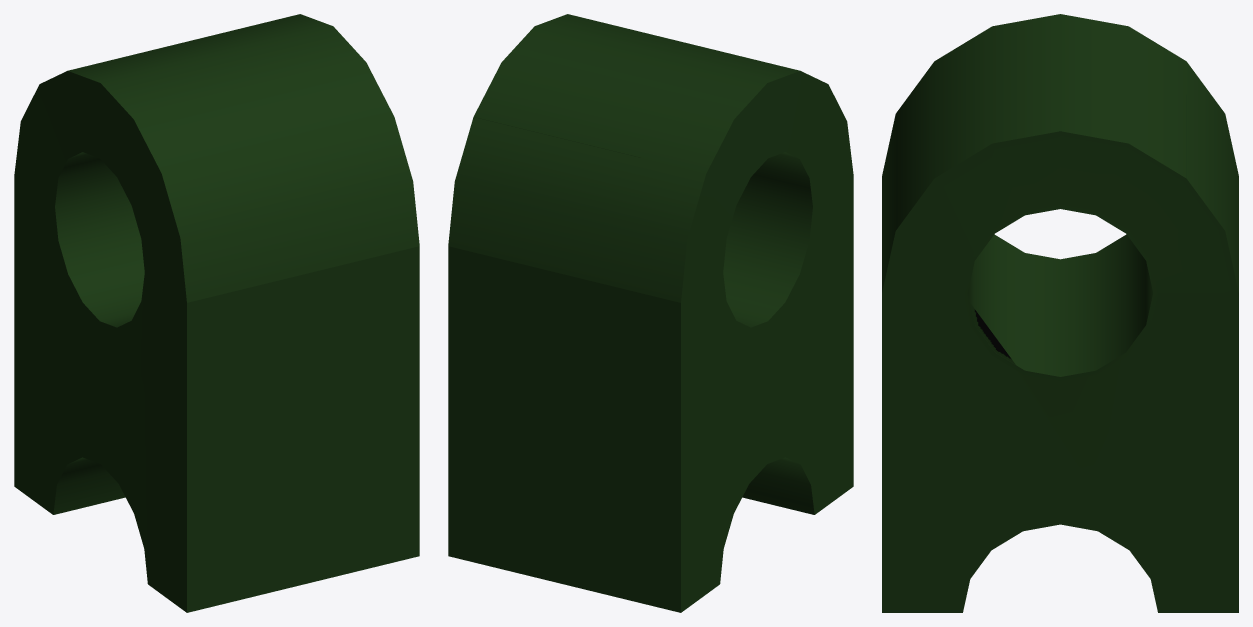
Rendered from ПТ-БлокДатчиков_П.fbx.
3 views of the same model, side by side, from view 1: azimuth 30°, elevation 25°; view 2: azimuth 150°, elevation 25°; view 3: azimuth 270°, elevation 25° (orthographic). The views are drawn at different scales.
Parts seen in each view (by area): view 1: ТРуба.004; view 2: ТРуба.004; view 3: ТРуба.004.
Part boxes in pixels (left/top/right/bottom): ТРуба.004: left=14, top=14, right=419, bottom=612; ТРуба.004: left=448, top=14, right=853, bottom=612; ТРуба.004: left=882, top=14, right=1238, bottom=612.
Size of the model in its own units: 108 by 207 by 139.
Materials: 1 (1 with a texture image).
